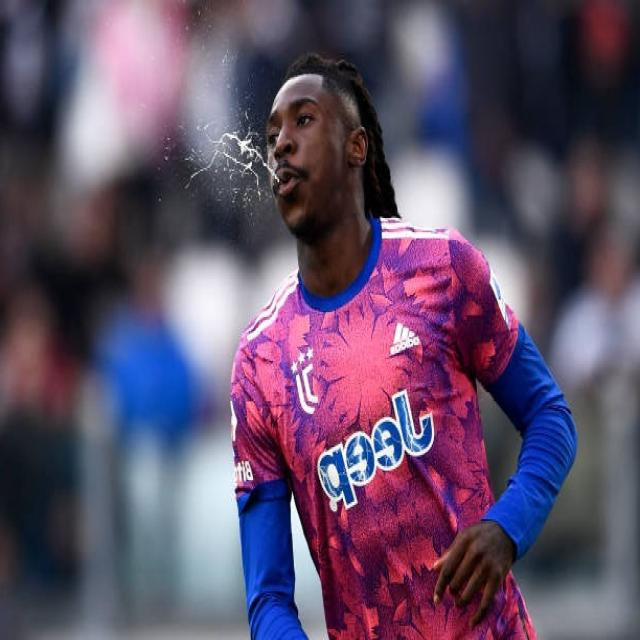Spitting: (200, 58, 387, 388)
